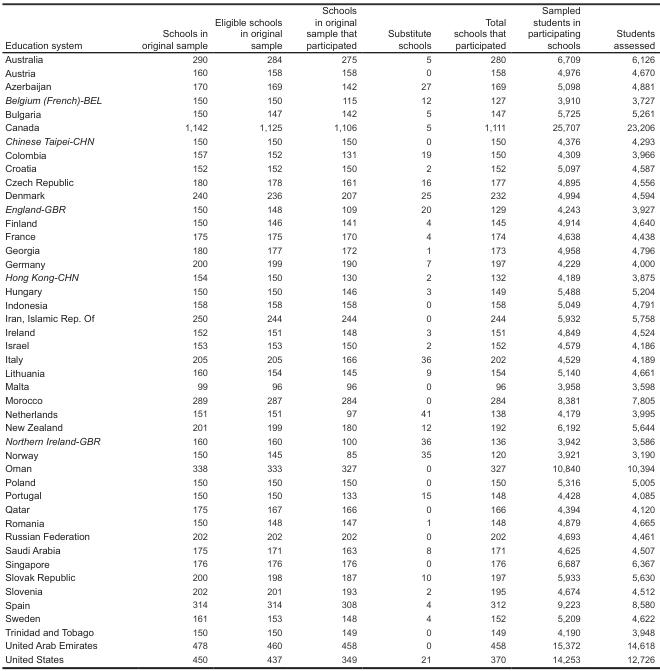table: (4, 3, 654, 664)
table column: (4, 3, 121, 664), (121, 3, 210, 664), (210, 3, 293, 664), (515, 3, 596, 664), (293, 3, 371, 664), (441, 3, 515, 664), (371, 3, 441, 664), (596, 3, 654, 664)
table column header: (4, 3, 654, 51)
table row: (4, 3, 654, 51), (4, 51, 654, 65), (4, 65, 654, 79), (4, 92, 654, 106), (4, 106, 654, 120), (4, 133, 654, 147), (4, 160, 654, 174), (4, 174, 654, 188), (4, 201, 654, 215), (4, 215, 654, 229), (4, 242, 654, 256), (4, 256, 654, 270), (4, 283, 654, 297), (4, 310, 654, 324), (4, 324, 654, 338), (4, 351, 654, 365), (4, 365, 654, 379), (4, 392, 654, 406), (4, 406, 654, 420), (4, 433, 654, 447), (4, 460, 654, 474), (4, 474, 654, 488), (4, 501, 654, 515), (4, 515, 654, 529), (4, 542, 654, 556), (4, 556, 654, 570), (4, 583, 654, 597), (4, 610, 654, 624), (4, 624, 654, 638), (4, 638, 654, 652), (4, 79, 654, 92), (4, 120, 654, 133), (4, 147, 654, 160), (4, 188, 654, 201), (4, 229, 654, 242), (4, 270, 654, 283), (4, 297, 654, 310), (4, 338, 654, 351), (4, 379, 654, 392), (4, 420, 654, 433), (4, 447, 654, 460), (4, 488, 654, 501), (4, 529, 654, 542), (4, 570, 654, 583), (4, 597, 654, 610), (4, 652, 654, 664)
